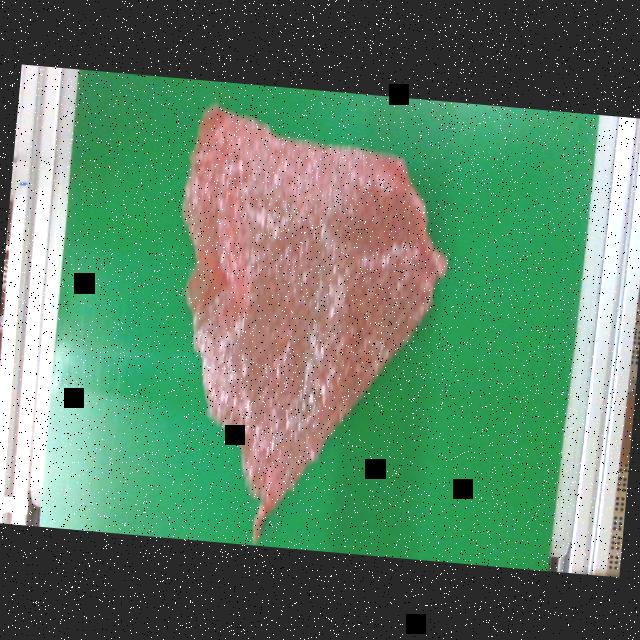scrap_plastic: (150, 94, 461, 558)
